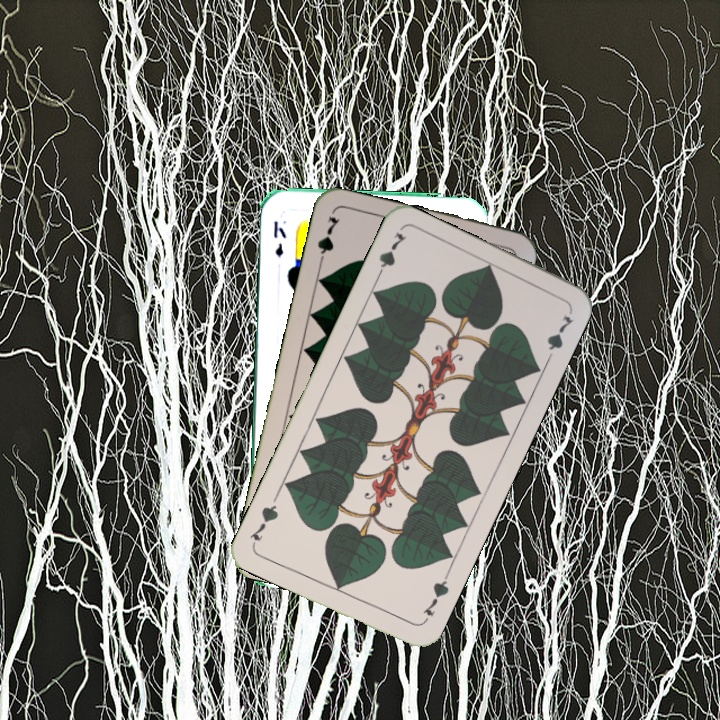EK: (269, 216, 289, 259)
G7: (371, 227, 409, 283), (418, 570, 452, 626), (313, 212, 343, 270)
